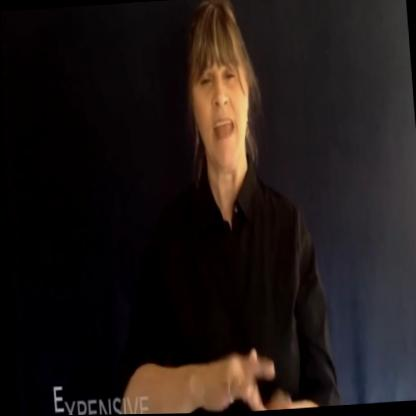Expensive: (198, 301, 301, 414)
